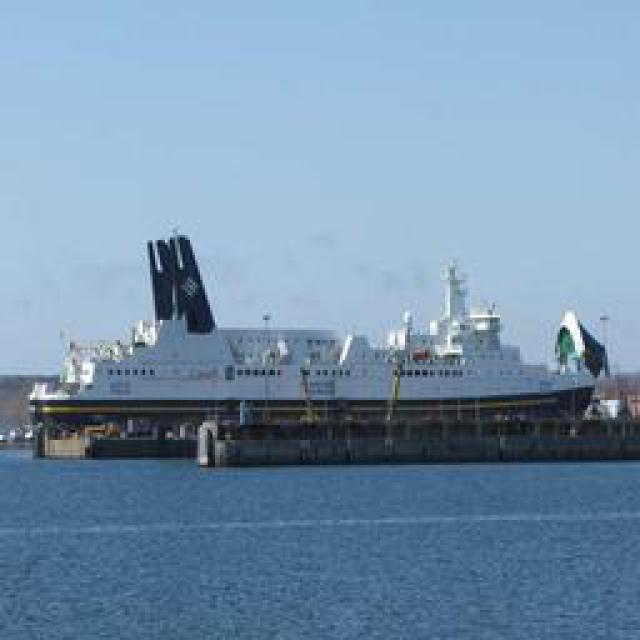Ship: (29, 239, 624, 452)
